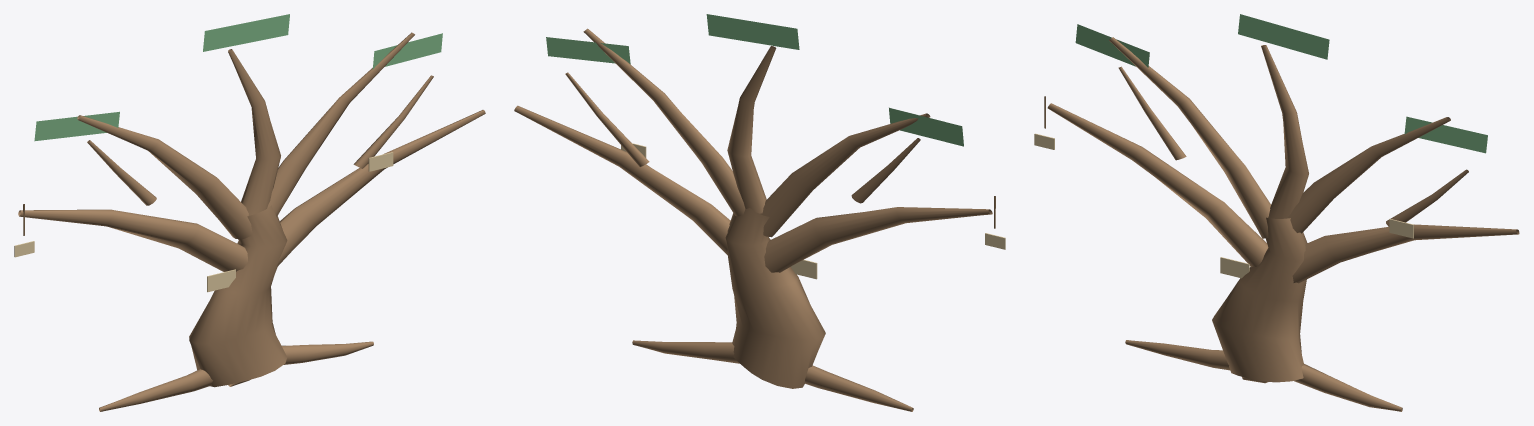
File: idea-tree-art-blockout.glb
The picture shows the model from 3 angles, left to right: view 1: azimuth 30°, elevation 25°; view 2: azimuth 150°, elevation 25°; view 3: azimuth 330°, elevation 25°; orthographic projection. The views are drawn at different scales.
Visible parts, largest first — view 1: Trunk, MainBranch_ViewerLeft_Low, MainBranch_ViewerLeft_High, MainBranch_ViewerRight_Low, MainBranch_ViewerRight_High, MainBranch_Center, LeafCluster_Center_proxy, ButtressRoot_ViewerLeft, LeafCluster_ViewerLeft_proxy, ButtressRoot_ViewerRight, LeafCluster_ViewerRight_proxy, SecondaryBranch_ViewerRight (+2 smaller); view 2: Trunk, MainBranch_ViewerLeft_Low, MainBranch_ViewerRight_Low, MainBranch_ViewerLeft_High, MainBranch_ViewerRight_High, MainBranch_Center, LeafCluster_Center_proxy, ButtressRoot_ViewerLeft, ButtressRoot_ViewerRight, LeafCluster_ViewerRight_proxy, LeafCluster_ViewerLeft_proxy, SecondaryBranch_ViewerRight (+1 smaller); view 3: Trunk, MainBranch_ViewerLeft_Low, MainBranch_ViewerRight_Low, MainBranch_ViewerLeft_High, MainBranch_ViewerRight_High, MainBranch_Center, LeafCluster_Center_proxy, ButtressRoot_ViewerRight, LeafCluster_ViewerRight_proxy, ButtressRoot_ViewerLeft, LeafCluster_ViewerLeft_proxy, SecondaryBranch_ViewerLeft (+2 smaller).
Boxes of the visible parts, x1,y1,x2,y2 form: Trunk: [189, 205, 287, 387]; MainBranch_ViewerLeft_Low: [18, 209, 247, 271]; MainBranch_ViewerLeft_High: [77, 115, 252, 239]; MainBranch_ViewerRight_Low: [277, 110, 485, 266]; MainBranch_ViewerRight_High: [267, 32, 414, 216]; MainBranch_Center: [228, 49, 280, 215]; LeafCluster_Center_proxy: [203, 14, 289, 51]; ButtressRoot_ViewerLeft: [99, 369, 212, 411]; LeafCluster_ViewerLeft_proxy: [34, 111, 119, 141]; ButtressRoot_ViewerRight: [282, 341, 373, 364]; LeafCluster_ViewerRight_proxy: [372, 33, 442, 69]; SecondaryBranch_ViewerRight: [353, 75, 433, 168]; Trunk: [725, 208, 825, 388]; MainBranch_ViewerLeft_Low: [764, 207, 992, 272]; MainBranch_ViewerRight_Low: [514, 105, 730, 254]; MainBranch_ViewerLeft_High: [760, 113, 930, 237]; MainBranch_ViewerRight_High: [583, 28, 745, 216]; MainBranch_Center: [727, 46, 776, 213]; LeafCluster_Center_proxy: [706, 14, 799, 49]; ButtressRoot_ViewerLeft: [804, 365, 913, 411]; ButtressRoot_ViewerRight: [632, 340, 739, 363]; LeafCluster_ViewerRight_proxy: [546, 37, 630, 64]; LeafCluster_ViewerLeft_proxy: [889, 107, 963, 146]; SecondaryBranch_ViewerRight: [565, 72, 649, 166]; Trunk: [1212, 217, 1307, 382]; MainBranch_ViewerLeft_Low: [1047, 103, 1268, 267]; MainBranch_ViewerRight_Low: [1292, 224, 1519, 283]; MainBranch_ViewerLeft_High: [1109, 37, 1270, 238]; MainBranch_ViewerRight_High: [1287, 117, 1450, 233]; MainBranch_Center: [1261, 45, 1308, 218]; LeafCluster_Center_proxy: [1238, 14, 1329, 59]; ButtressRoot_ViewerRight: [1294, 364, 1402, 411]; LeafCluster_ViewerRight_proxy: [1404, 116, 1487, 153]; ButtressRoot_ViewerLeft: [1125, 340, 1229, 370]; LeafCluster_ViewerLeft_proxy: [1075, 24, 1149, 67]; SecondaryBranch_ViewerLeft: [1118, 66, 1186, 160].
Size of the model in its own units: 13.22 by 9.4 by 1.19.
